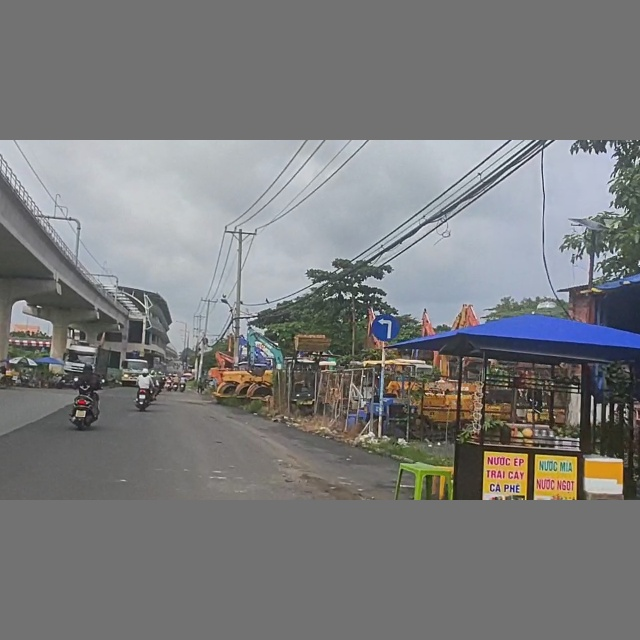R.301e: (373, 315, 399, 342)
